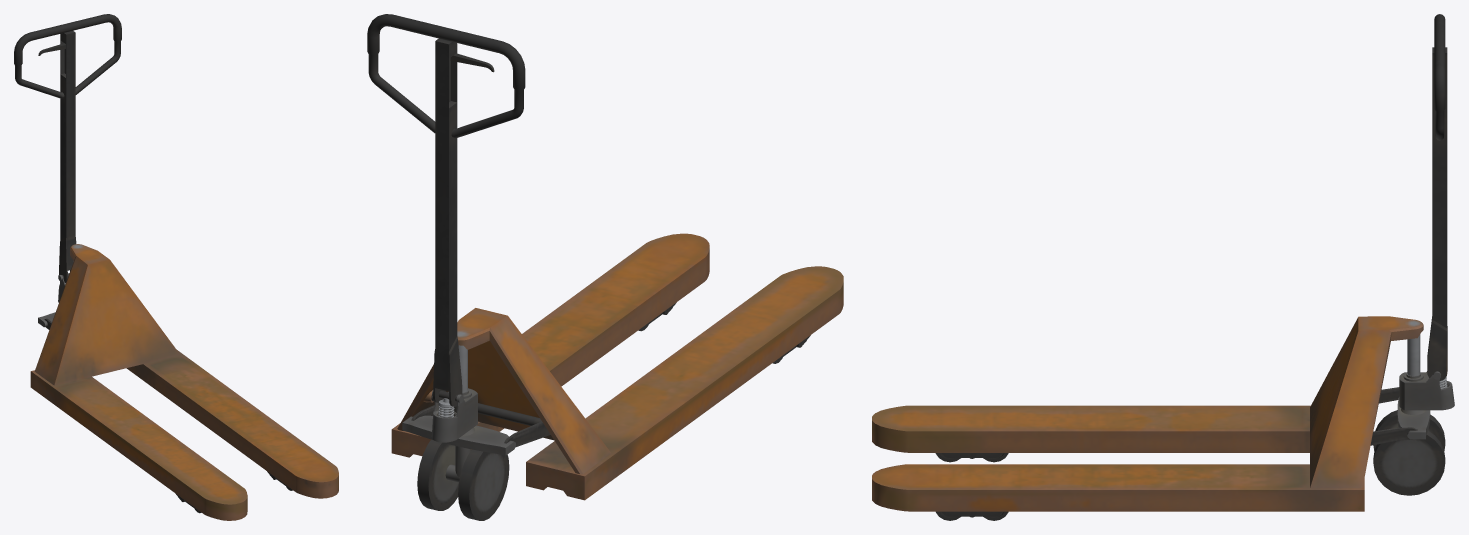
File: SM_ManualForklift.fbx
3 renders of one model, left to right at view 1: azimuth 30°, elevation 25°; view 2: azimuth 150°, elevation 25°; view 3: azimuth 270°, elevation 25°, orthographic. The views are drawn at different scales.
Parts seen in each view (by area): view 1: SM_ManualForklift_LOD0; view 2: SM_ManualForklift_LOD0; view 3: SM_ManualForklift_LOD0.
Part boxes in pixels (box(x1,y1,x2,y2)): SM_ManualForklift_LOD0: box(14, 14, 338, 520); SM_ManualForklift_LOD0: box(367, 14, 843, 520); SM_ManualForklift_LOD0: box(872, 14, 1454, 520).
Size of the model in its own units: 50.31 by 147 by 124.
